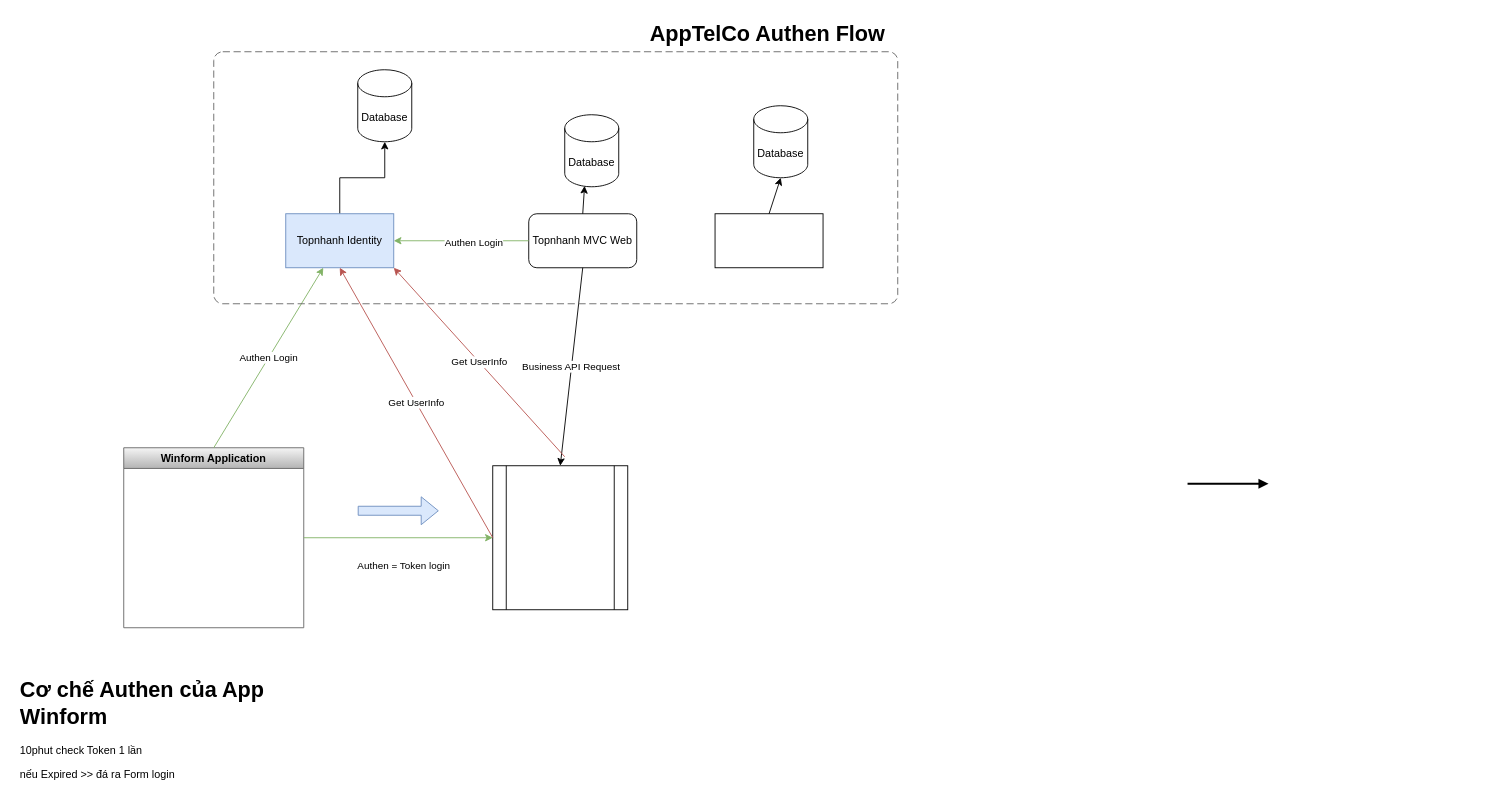
The diagram is 1498 pixels wide and 796 high, and some of its shapes have lost their labels. Here are the shapes that lost their labels. From the top down, the box of each, then its label:
(213, 51, 898, 304): Container name [Topnhanh ]
(714, 213, 823, 268): Topnhanh Card Gateway
(492, 465, 628, 610): Api AppTelcoUser
